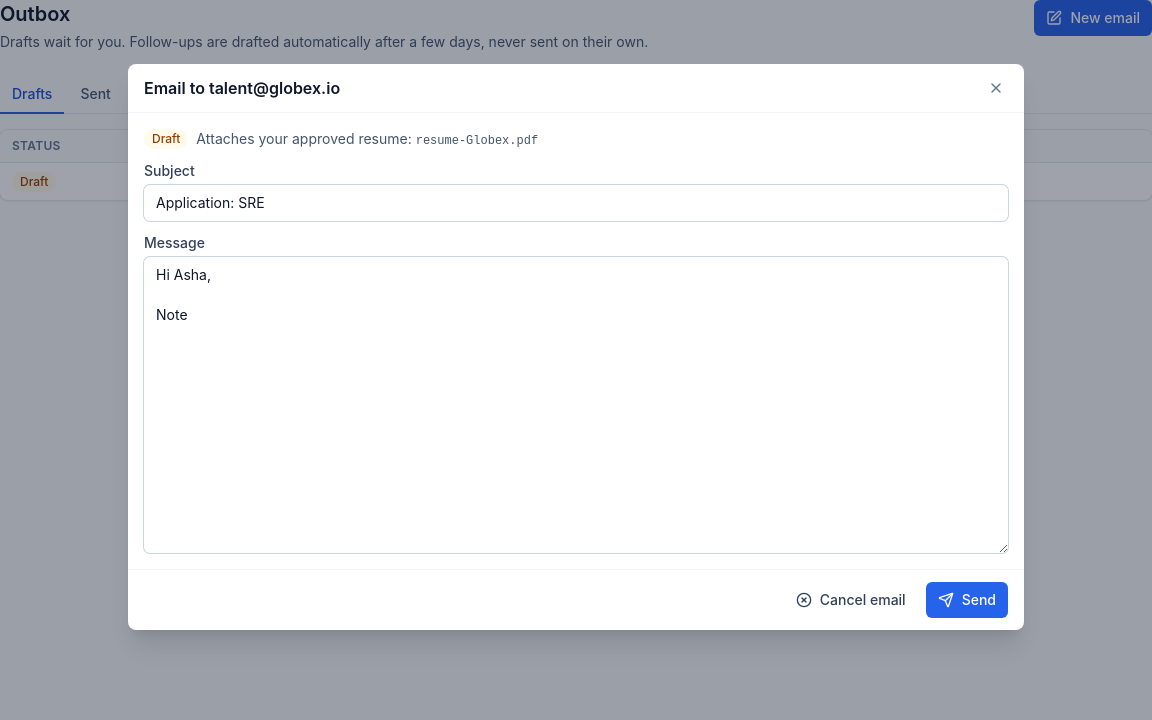
Scenario: OutreachPage › shows why a send was refused
Click the button "Send". click: [967, 600]
box: x1=926 y1=582 x2=1008 y2=618
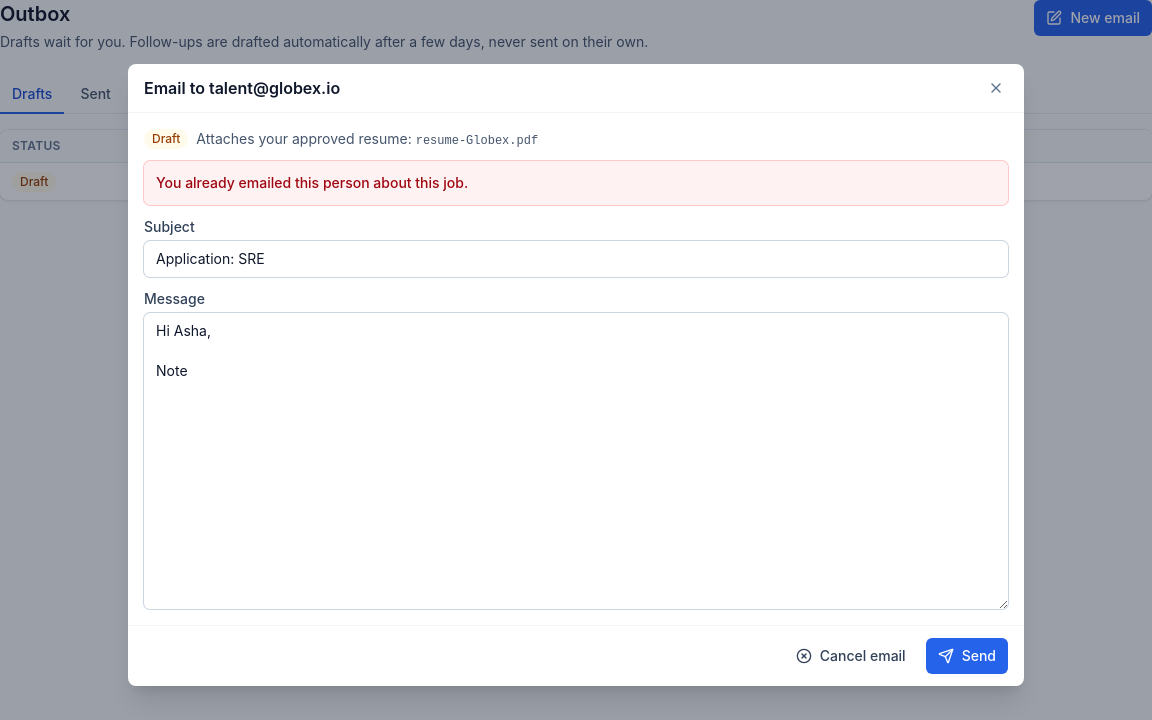
Expected: the text "You already emailed this person about this job." is shown, x1=156 y1=174 x2=468 y2=191
